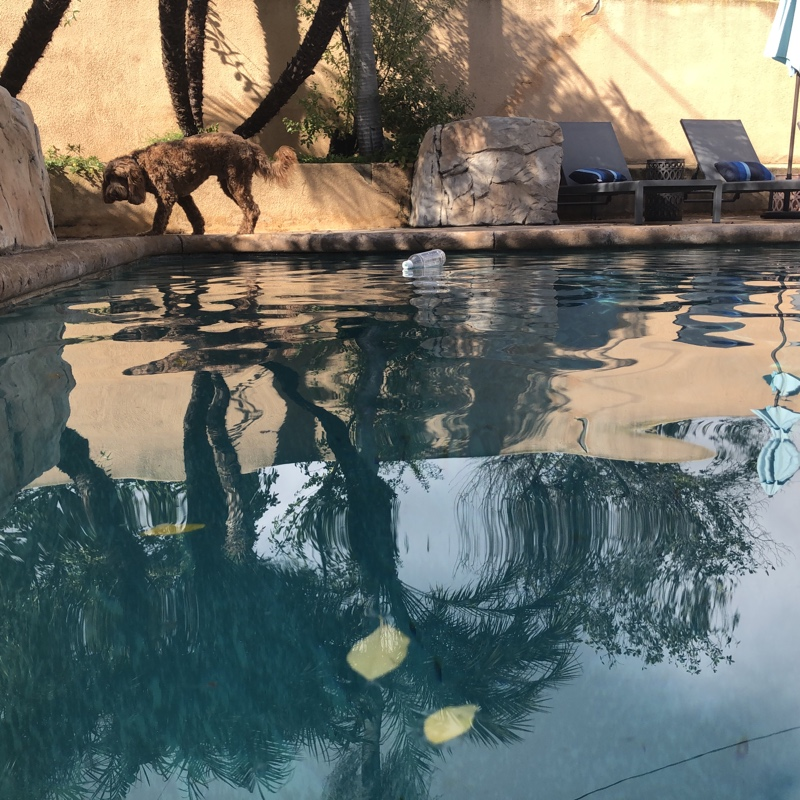Plastic Bottle: (403, 248, 448, 272)
